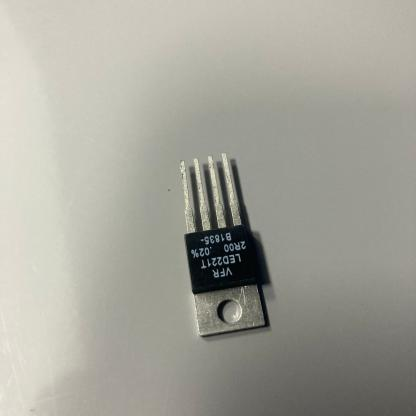SP0000012: (130, 116, 341, 372)
